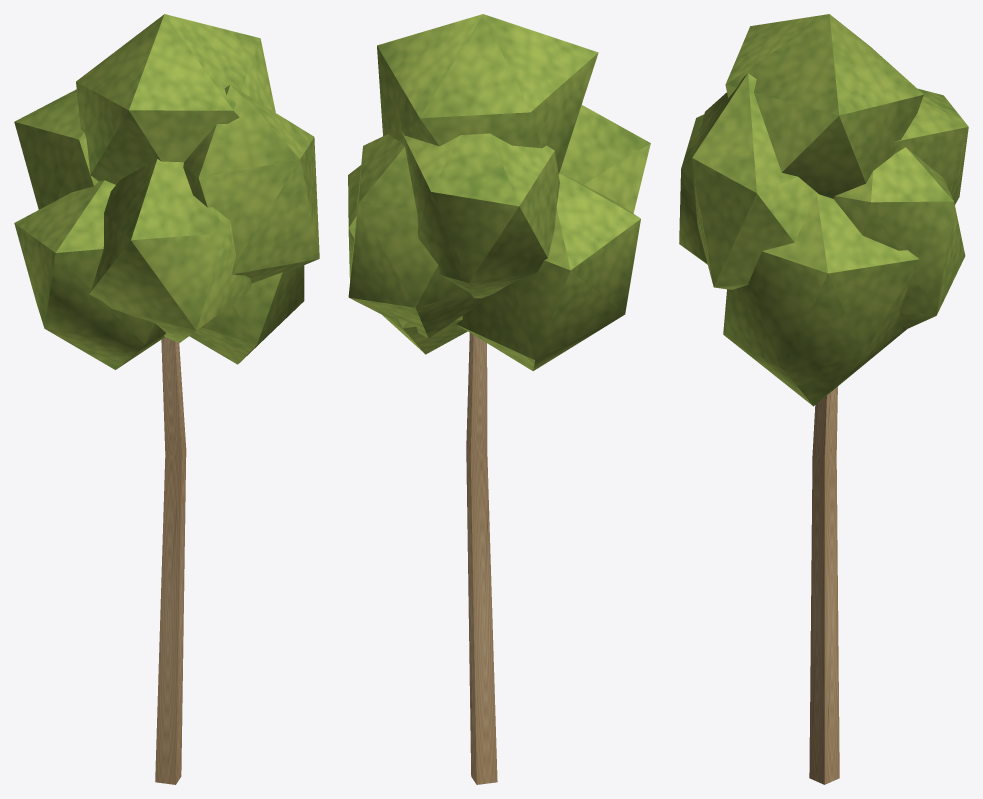
File: SM_Tree_Aspen01_LOD1.fbx
The picture shows the model from 3 angles, left to right: view 1: azimuth 30°, elevation 25°; view 2: azimuth 150°, elevation 25°; view 3: azimuth 270°, elevation 25°; orthographic projection.
Parts seen in each view (by area): view 1: SM_Tree_Aspen01_LOD1; view 2: SM_Tree_Aspen01_LOD1; view 3: SM_Tree_Aspen01_LOD1.
Part boxes in pixels (bbox=[...]): SM_Tree_Aspen01_LOD1: bbox=[14, 14, 319, 784]; SM_Tree_Aspen01_LOD1: bbox=[348, 14, 650, 784]; SM_Tree_Aspen01_LOD1: bbox=[679, 14, 968, 784].
Bounding box in the file's own units: 7.15 × 19.48 × 6.69.
Materials: 1 (1 with a texture image).
